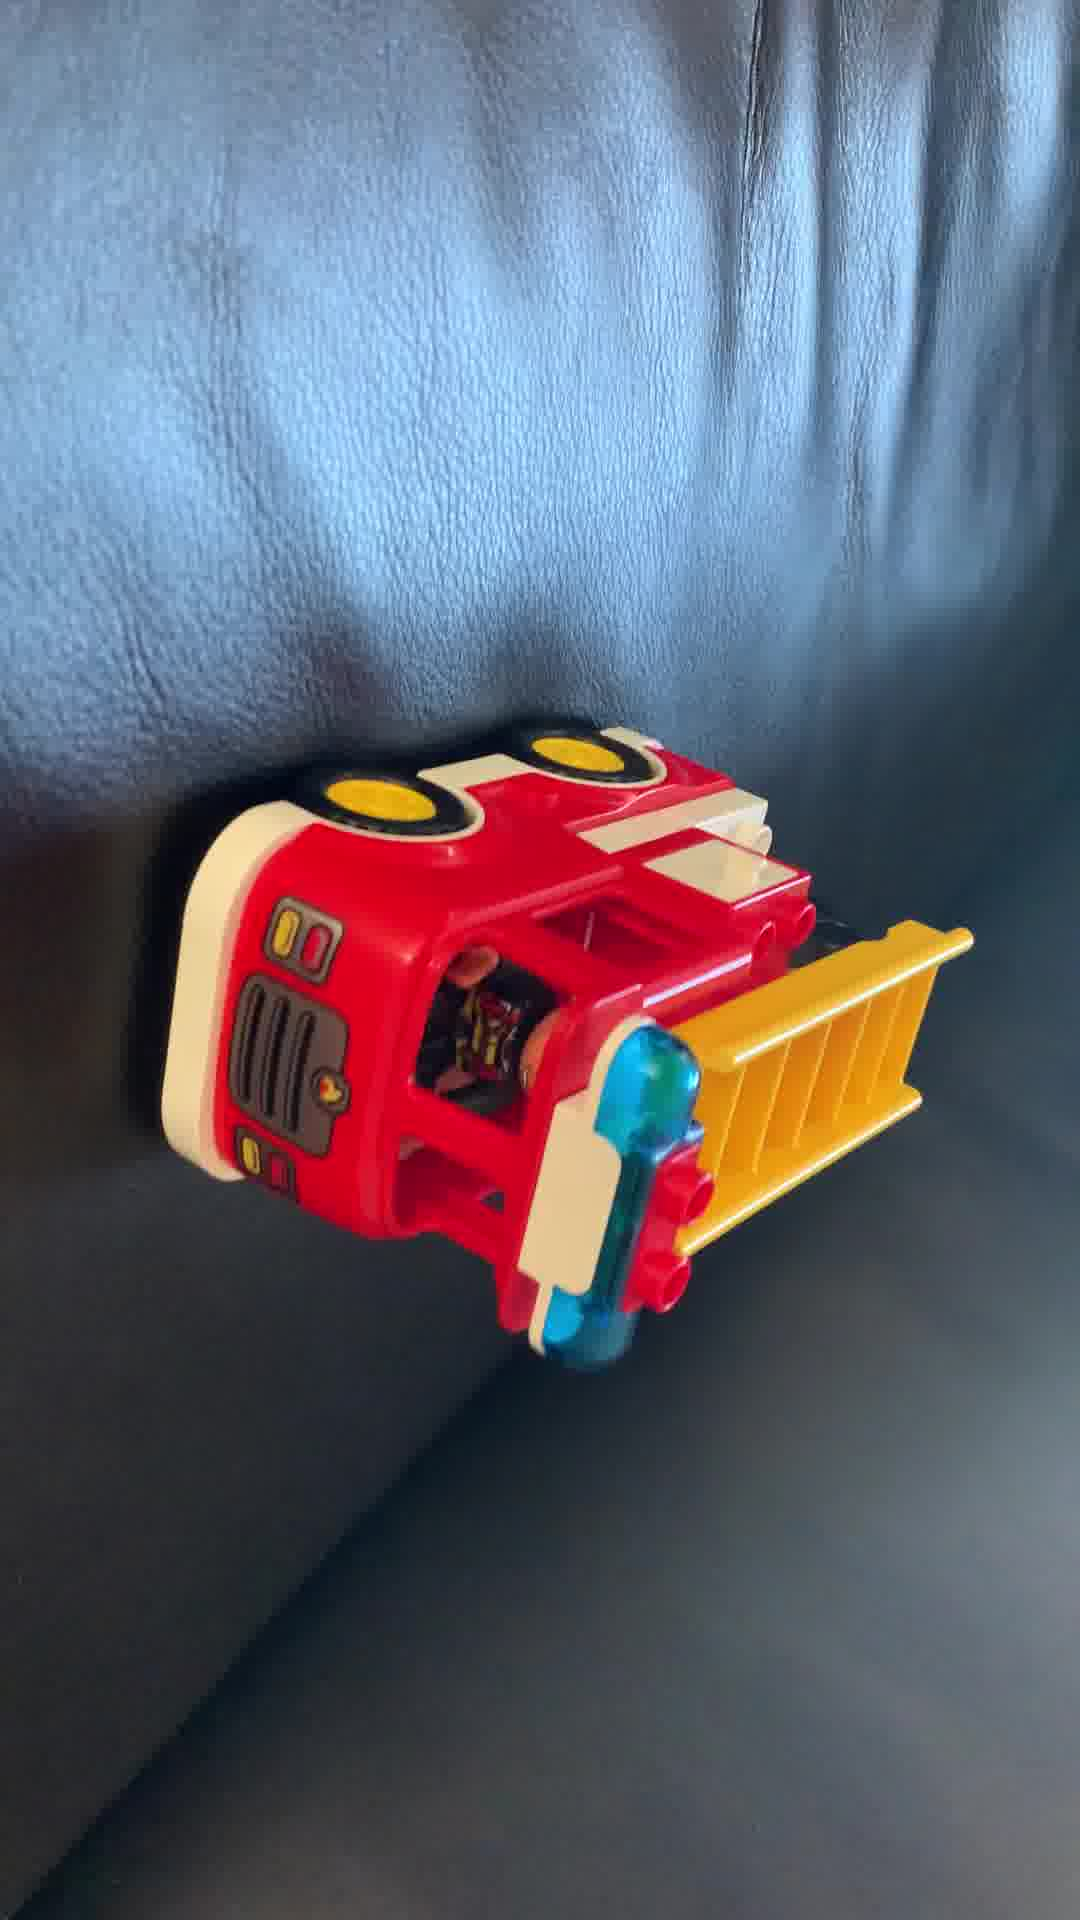lego fire truck: (146, 708, 978, 1373)
